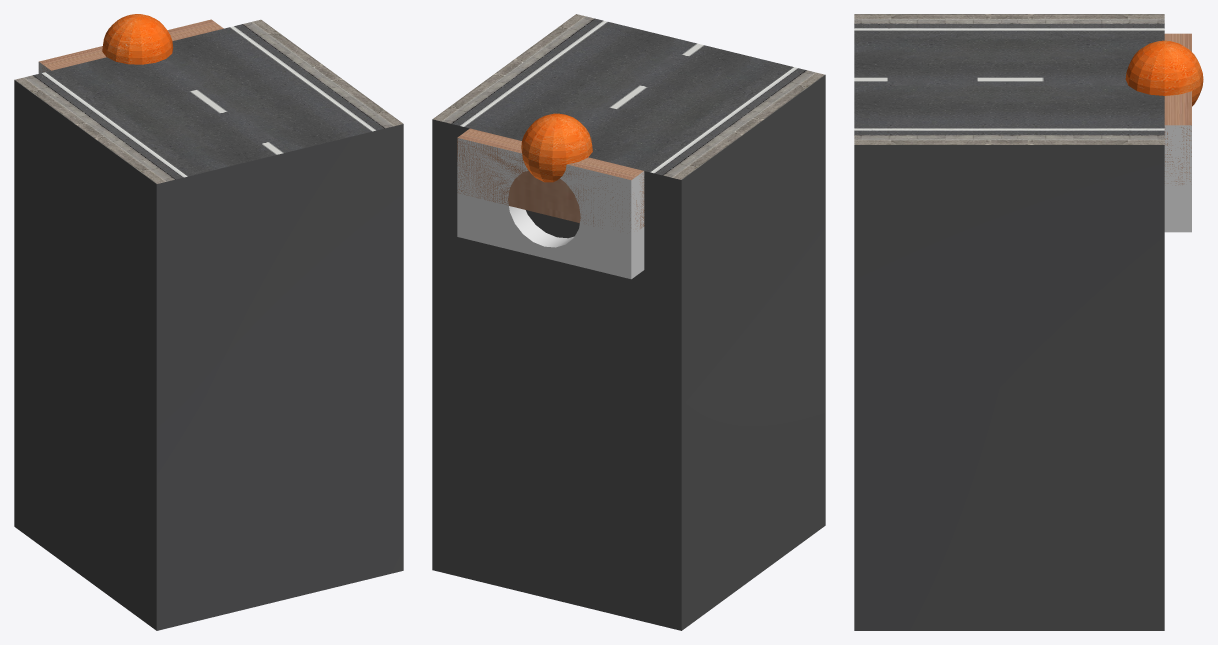
The picture shows the model from 3 angles, left to right: view 1: azimuth 30°, elevation 25°; view 2: azimuth 150°, elevation 25°; view 3: azimuth 270°, elevation 25°; orthographic projection. The views are drawn at different scales.
Visible parts, largest first — view 1: road, Ball, wood; view 2: road, hole, wood, Ball; view 3: road, Ball, hole, wood.
Part boxes in pixels (left/top/right/bottom): road: left=14, top=19, right=403, bottom=630; Ball: left=102, top=14, right=173, bottom=64; wood: left=38, top=19, right=223, bottom=71; road: left=432, top=14, right=825, bottom=630; hole: left=457, top=138, right=644, bottom=279; wood: left=457, top=128, right=644, bottom=228; Ball: left=521, top=113, right=592, bottom=182; road: left=854, top=14, right=1164, bottom=630; Ball: left=1125, top=40, right=1203, bottom=106; hole: left=1164, top=125, right=1191, bottom=232; wood: left=1164, top=33, right=1191, bottom=185.
Size of the model in its own units: 2 by 3.71 by 2.25.
4 materials, 3 textured.
